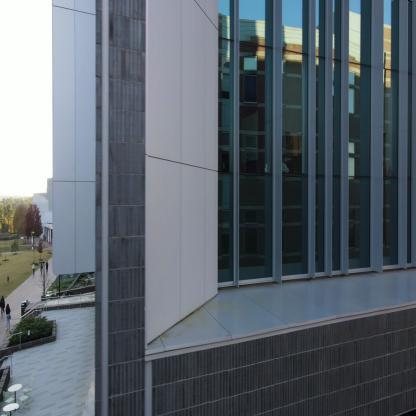Fitts- Woolard: (0, 3, 412, 401)
